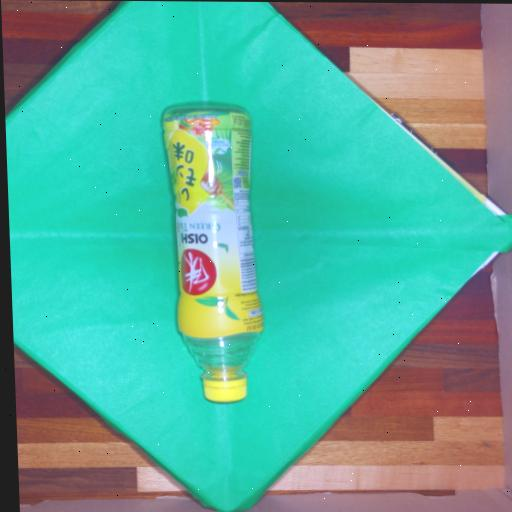bottle: (148, 82, 282, 413)
